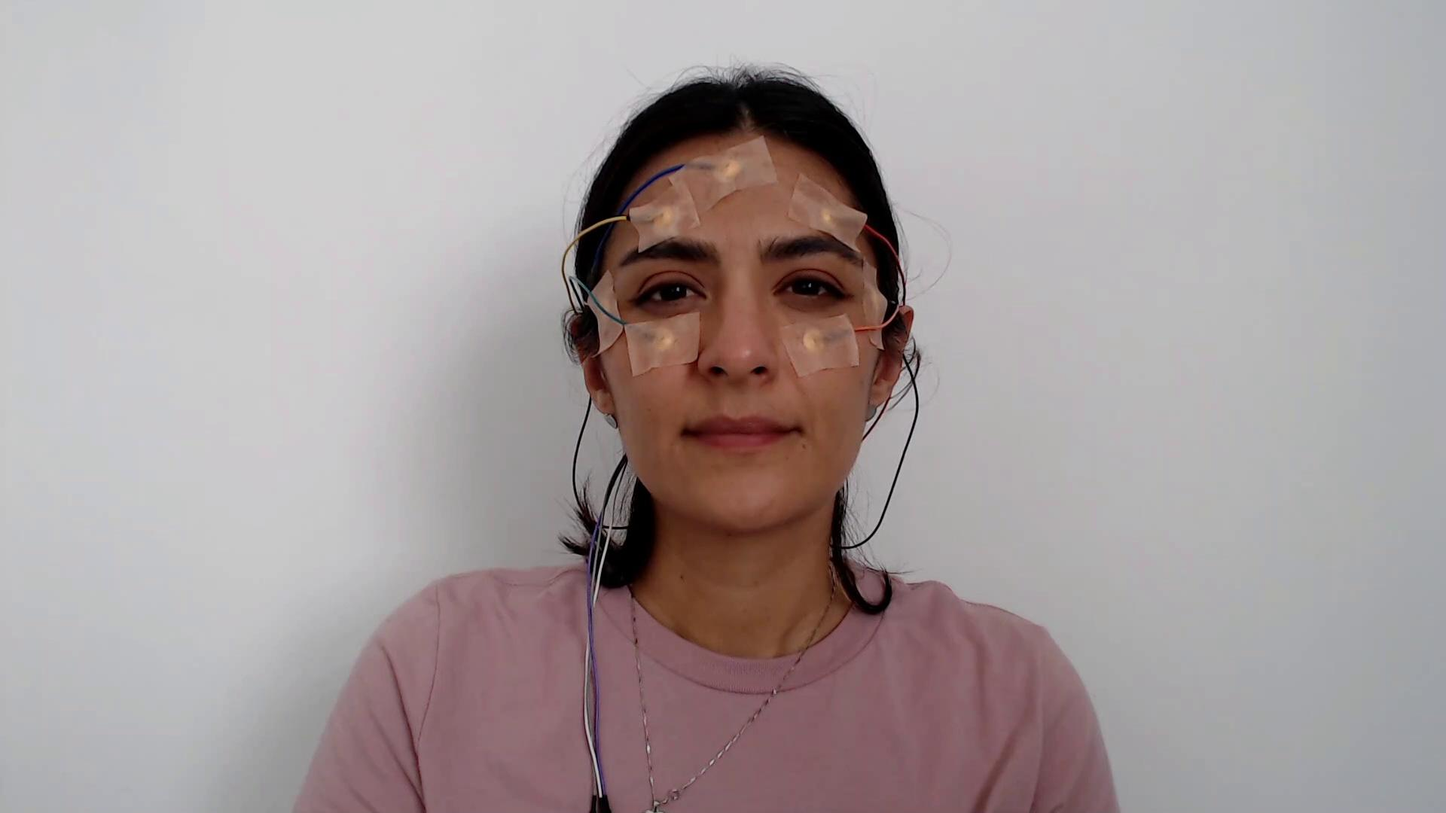Iris: (792, 277, 821, 295), (660, 282, 687, 301)
Ojos: (632, 268, 709, 308), (774, 266, 848, 303)
